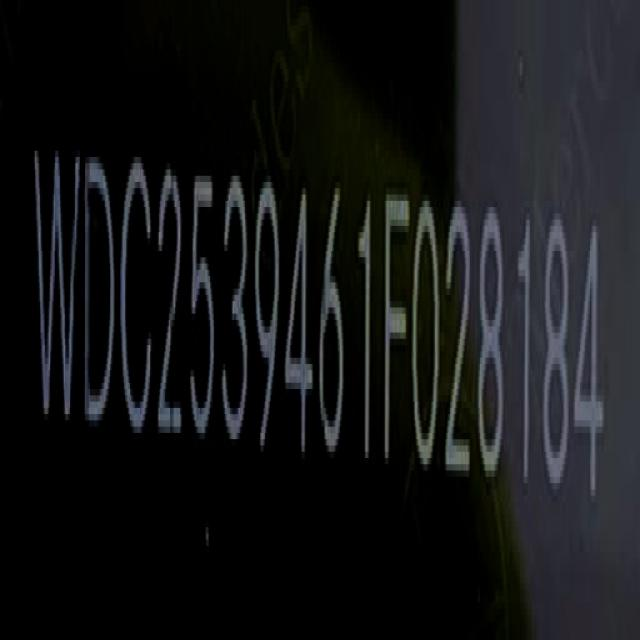0: (413, 195, 443, 480)
1: (514, 208, 536, 492), (356, 172, 374, 474)
2: (156, 160, 186, 446), (446, 200, 475, 484)
3: (222, 171, 250, 452)
4: (574, 215, 606, 504), (285, 173, 316, 464)
5: (191, 162, 219, 446)
6: (319, 179, 348, 466)
8: (544, 218, 574, 496), (477, 205, 506, 486)
9: (252, 160, 282, 465)
C: (122, 155, 154, 444)
D: (84, 150, 118, 438)
F: (382, 172, 409, 479)
W: (30, 135, 83, 446)
